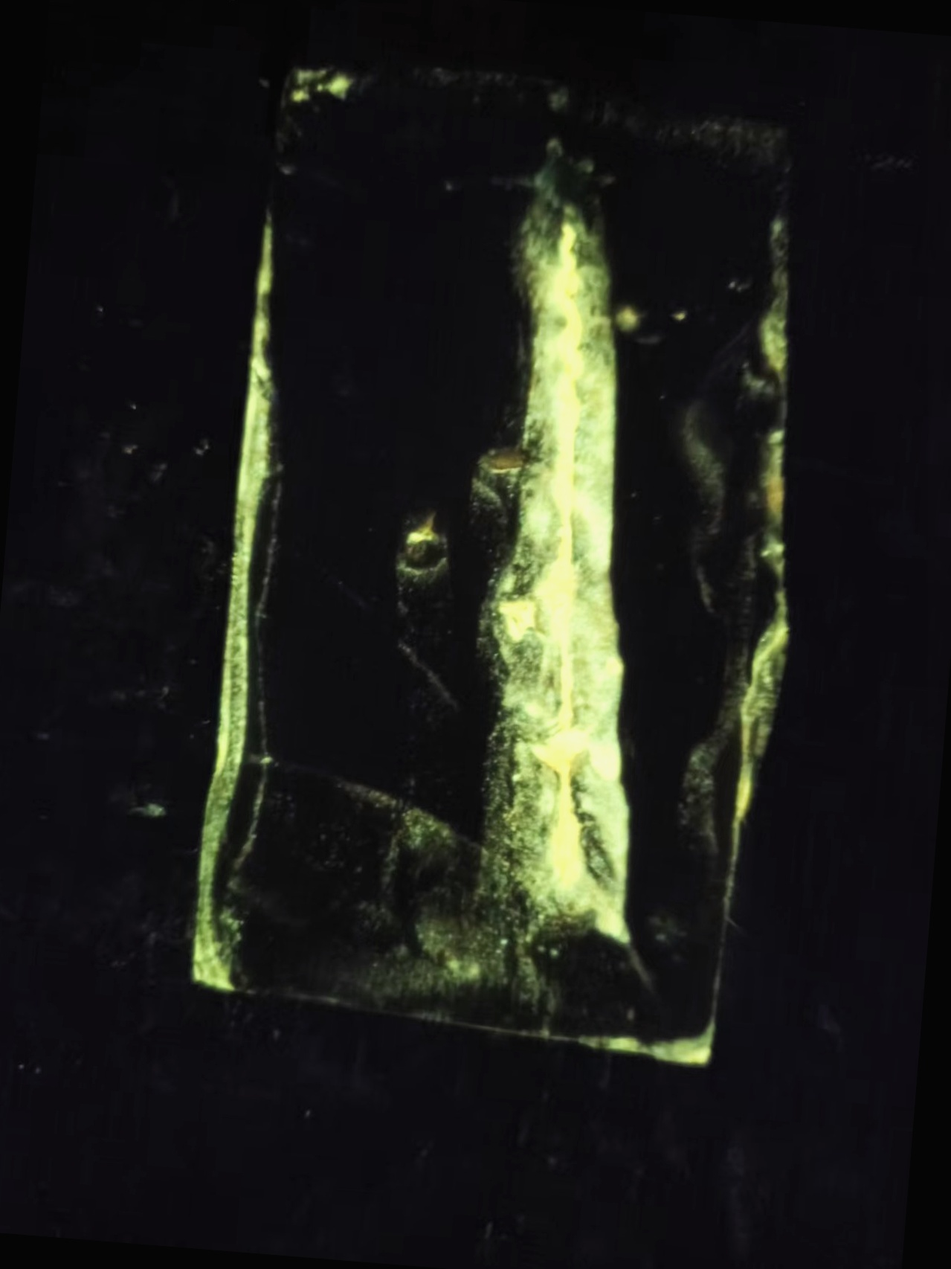Fissure: (442, 163, 716, 985), (157, 178, 328, 1024)
